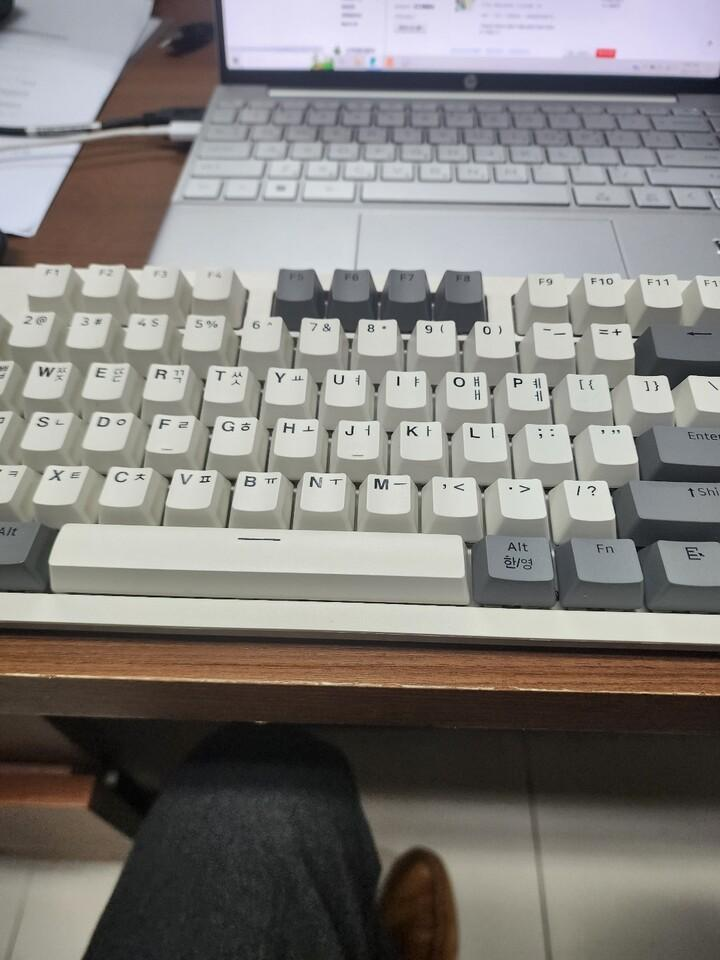keyboard: (0, 262, 719, 649)
